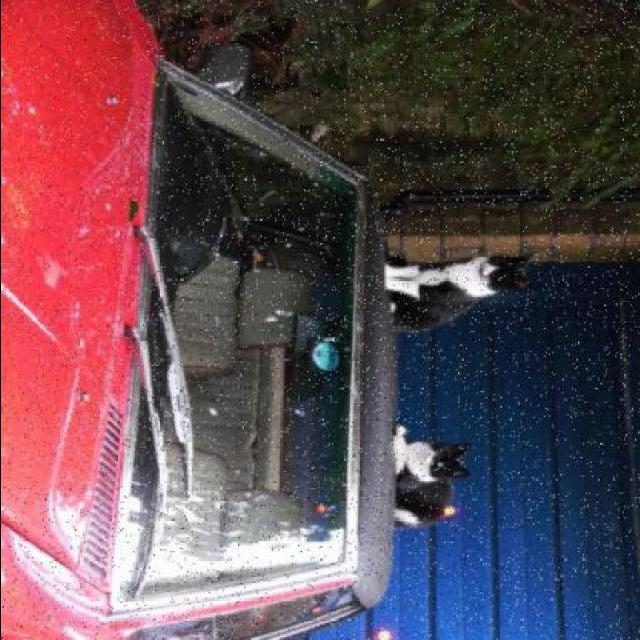bonnet-dent: (0, 4, 176, 581)
